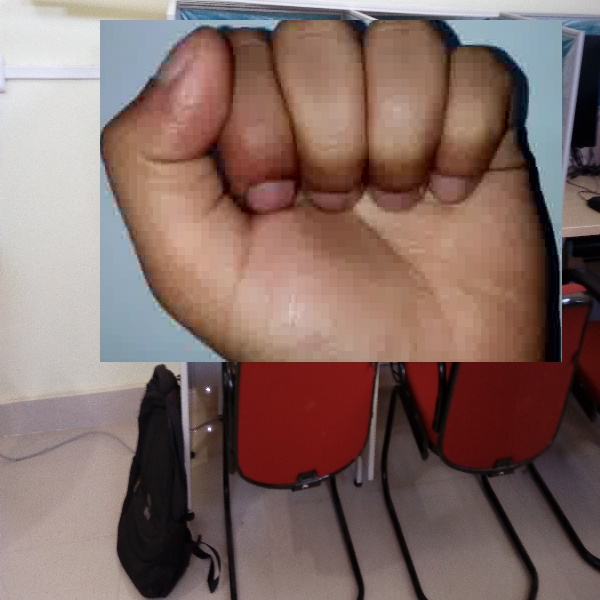A: (100, 20, 562, 362)
